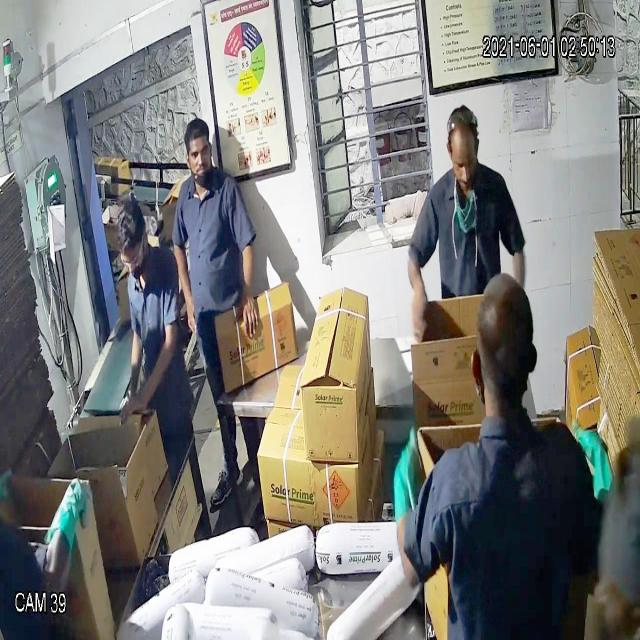glasses: (116, 241, 152, 278)
no-glass: (442, 148, 484, 183), (183, 138, 219, 170)
